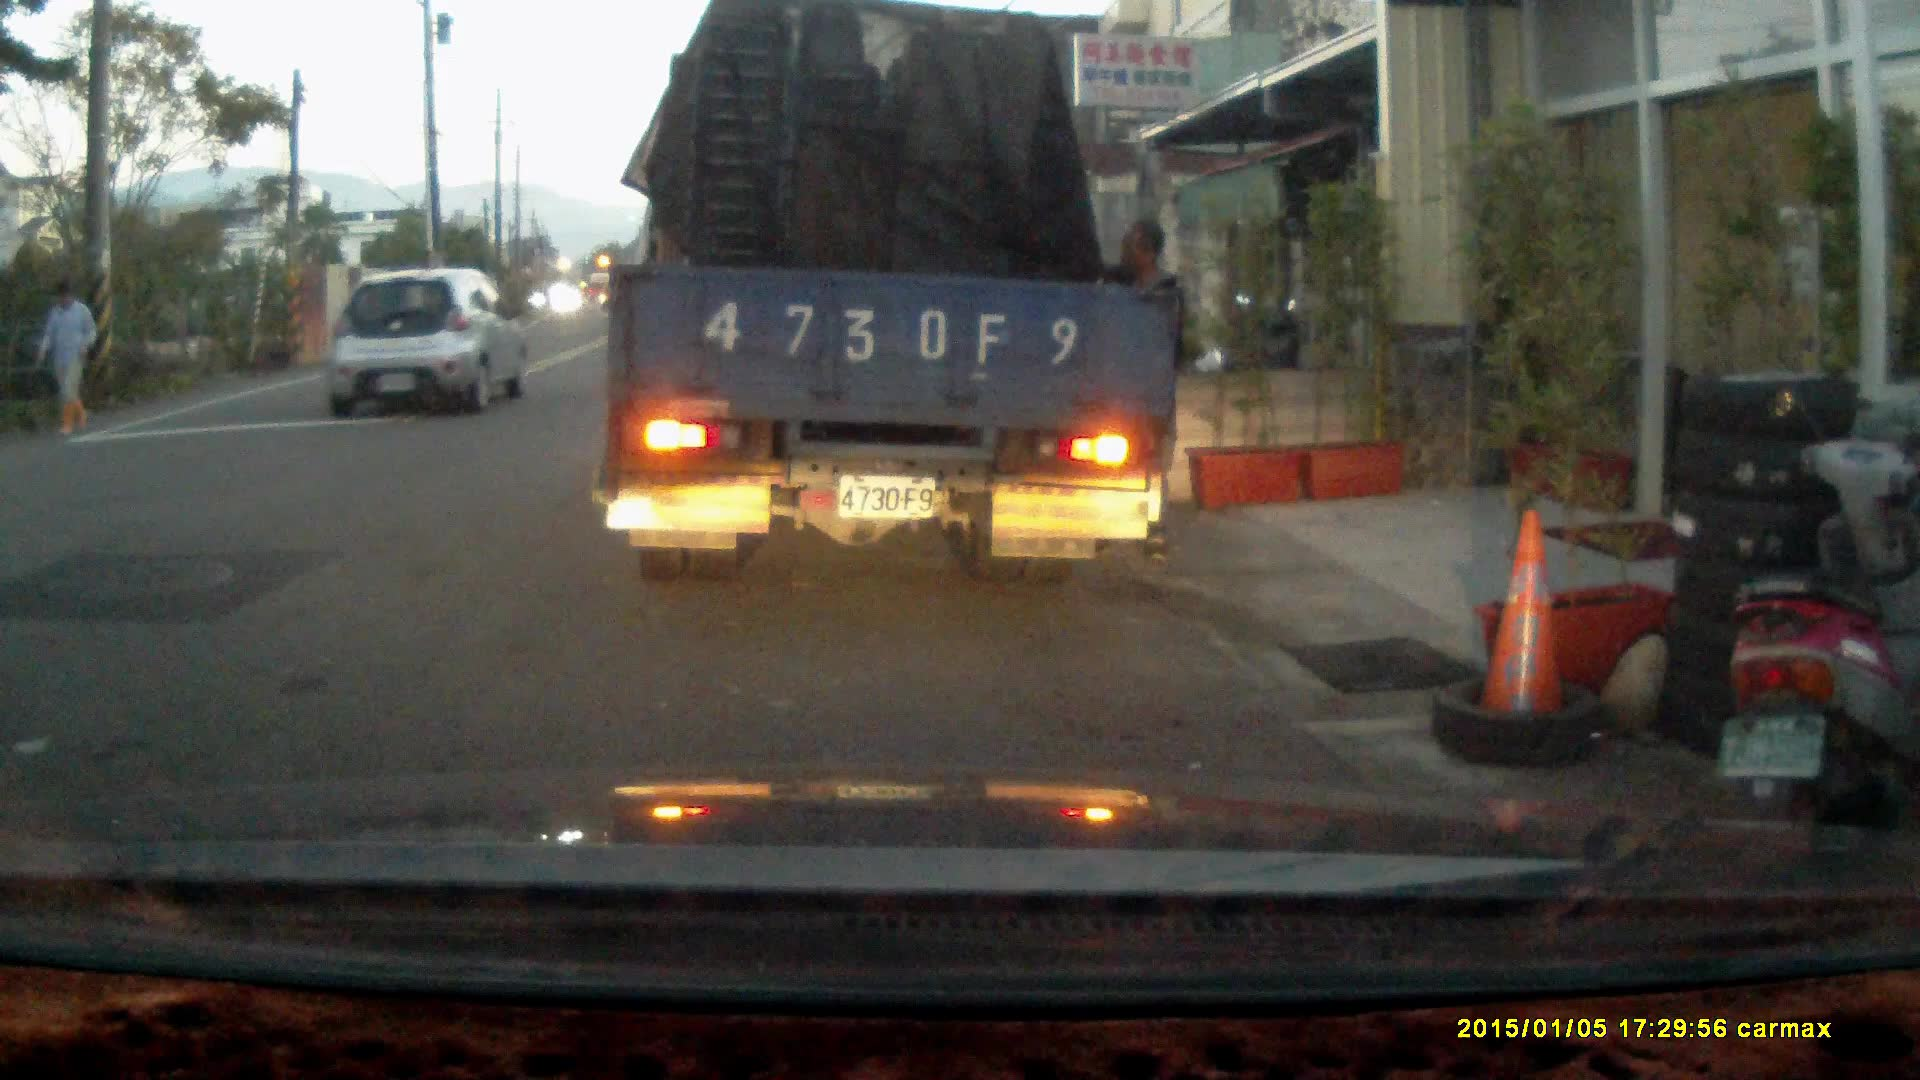pedestrian: (1086, 214, 1188, 566), (24, 278, 95, 433)
vehicle: (603, 23, 1186, 572), (324, 263, 532, 415)
